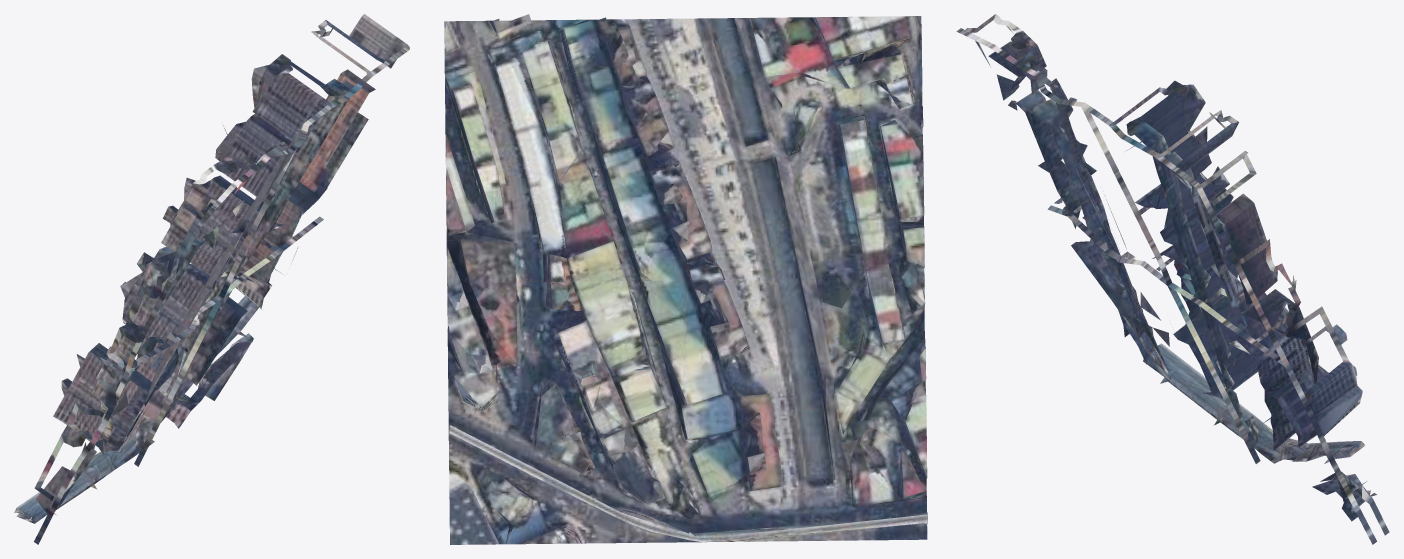
3 renders of one model, left to right at view 1: azimuth 30°, elevation 25°; view 2: azimuth 150°, elevation 25°; view 3: azimuth 270°, elevation 25°, orthographic. The views are drawn at different scales.
Bounding box in the file's own units: 315 × 299 × 269.
Materials: 1 (1 with a texture image).
